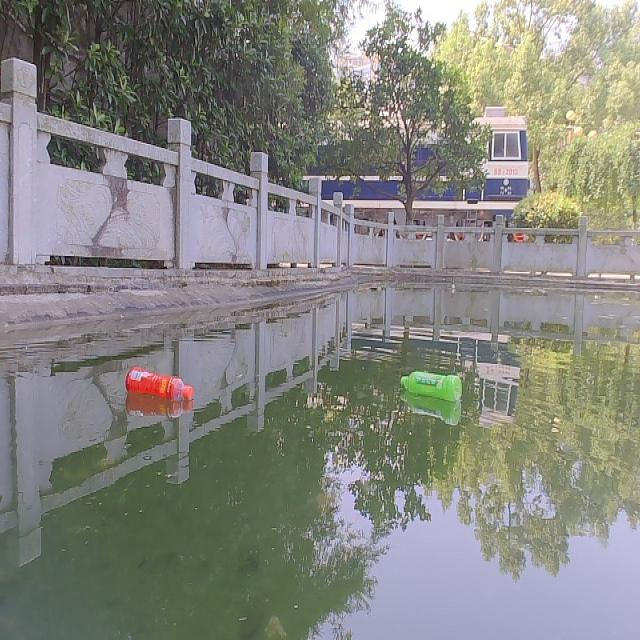Bottle: (123, 361, 194, 403), (397, 367, 464, 400)
